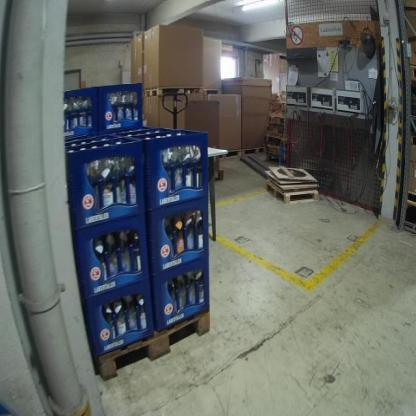pallets: (91, 310, 211, 382), (262, 176, 320, 204), (393, 186, 415, 244), (143, 83, 222, 98), (220, 143, 266, 159)
